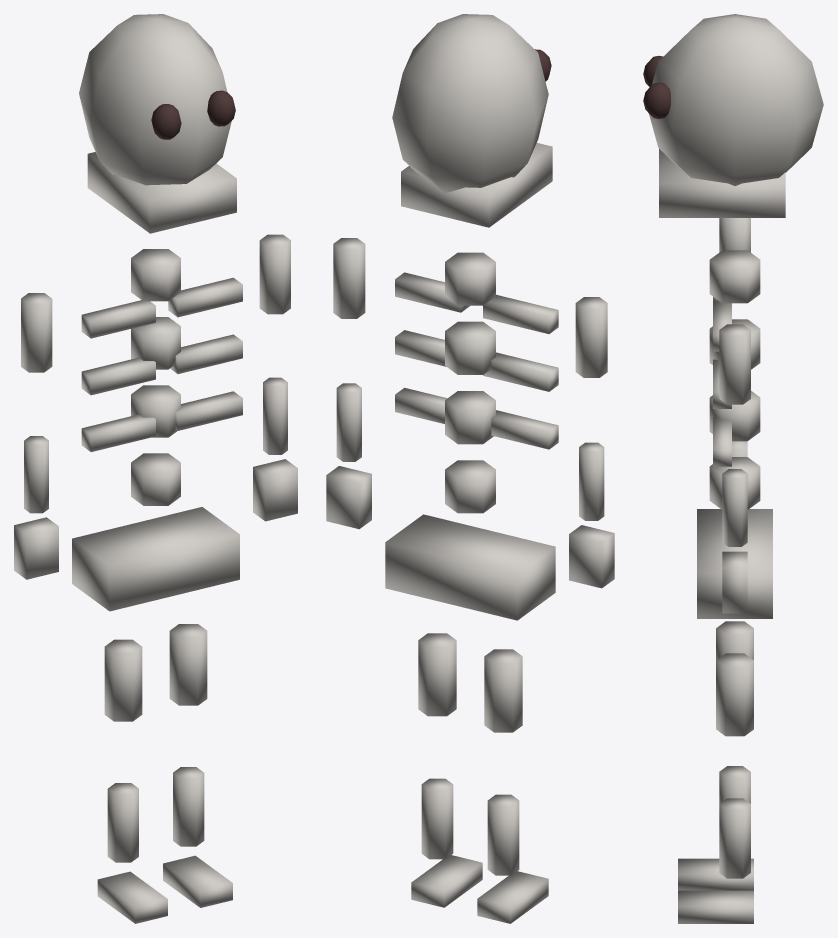
The model's file is skeleton.glb.
3 views of the same model, side by side, from view 1: azimuth 30°, elevation 25°; view 2: azimuth 150°, elevation 25°; view 3: azimuth 270°, elevation 25° (orthographic).
Parts seen in each view (by area): view 1: Skeleton; view 2: Skeleton; view 3: Skeleton.
Part boxes in pixels (<box>): Skeleton: <box>14,14,297,923</box>; Skeleton: <box>326,14,614,923</box>; Skeleton: <box>643,14,823,923</box>.
Size of the model in its own units: 0.5 by 1.53 by 0.285.
